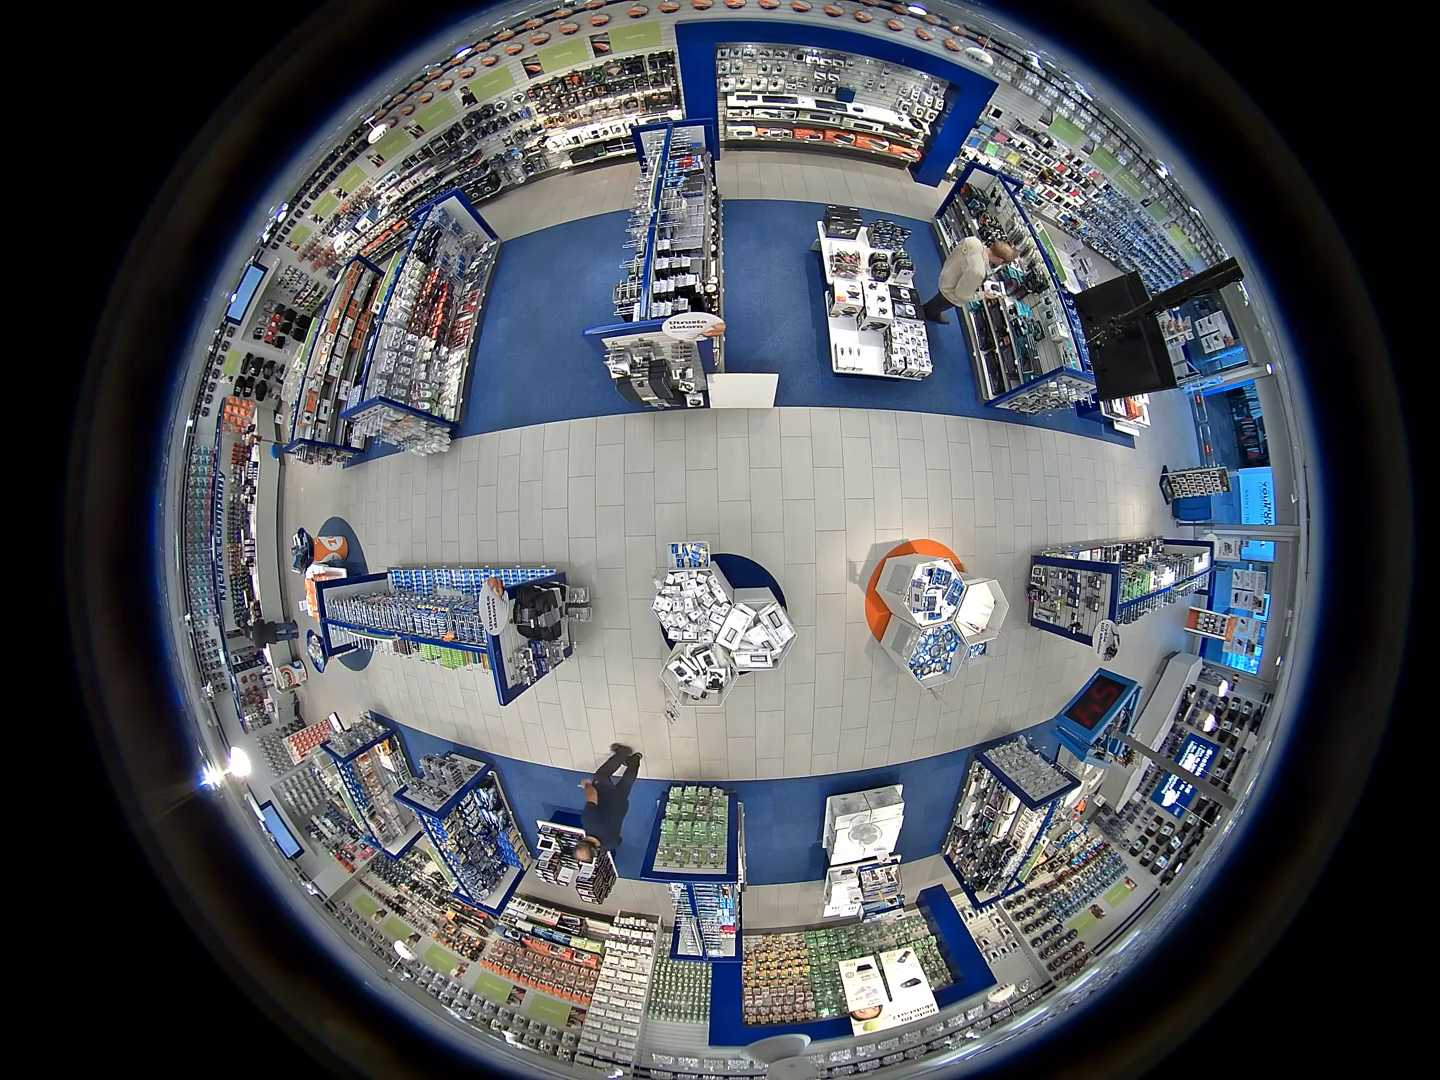person: (572, 742, 643, 862), (920, 235, 1015, 325), (245, 618, 299, 648), (235, 609, 255, 636)
